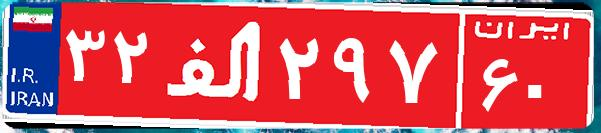0: (525, 38, 570, 115)
2: (273, 28, 330, 110), (110, 28, 158, 105)
3: (57, 26, 110, 107)
6: (475, 38, 525, 113)
7: (385, 28, 445, 110)
9: (330, 28, 385, 110)
الف: (158, 15, 273, 115)
